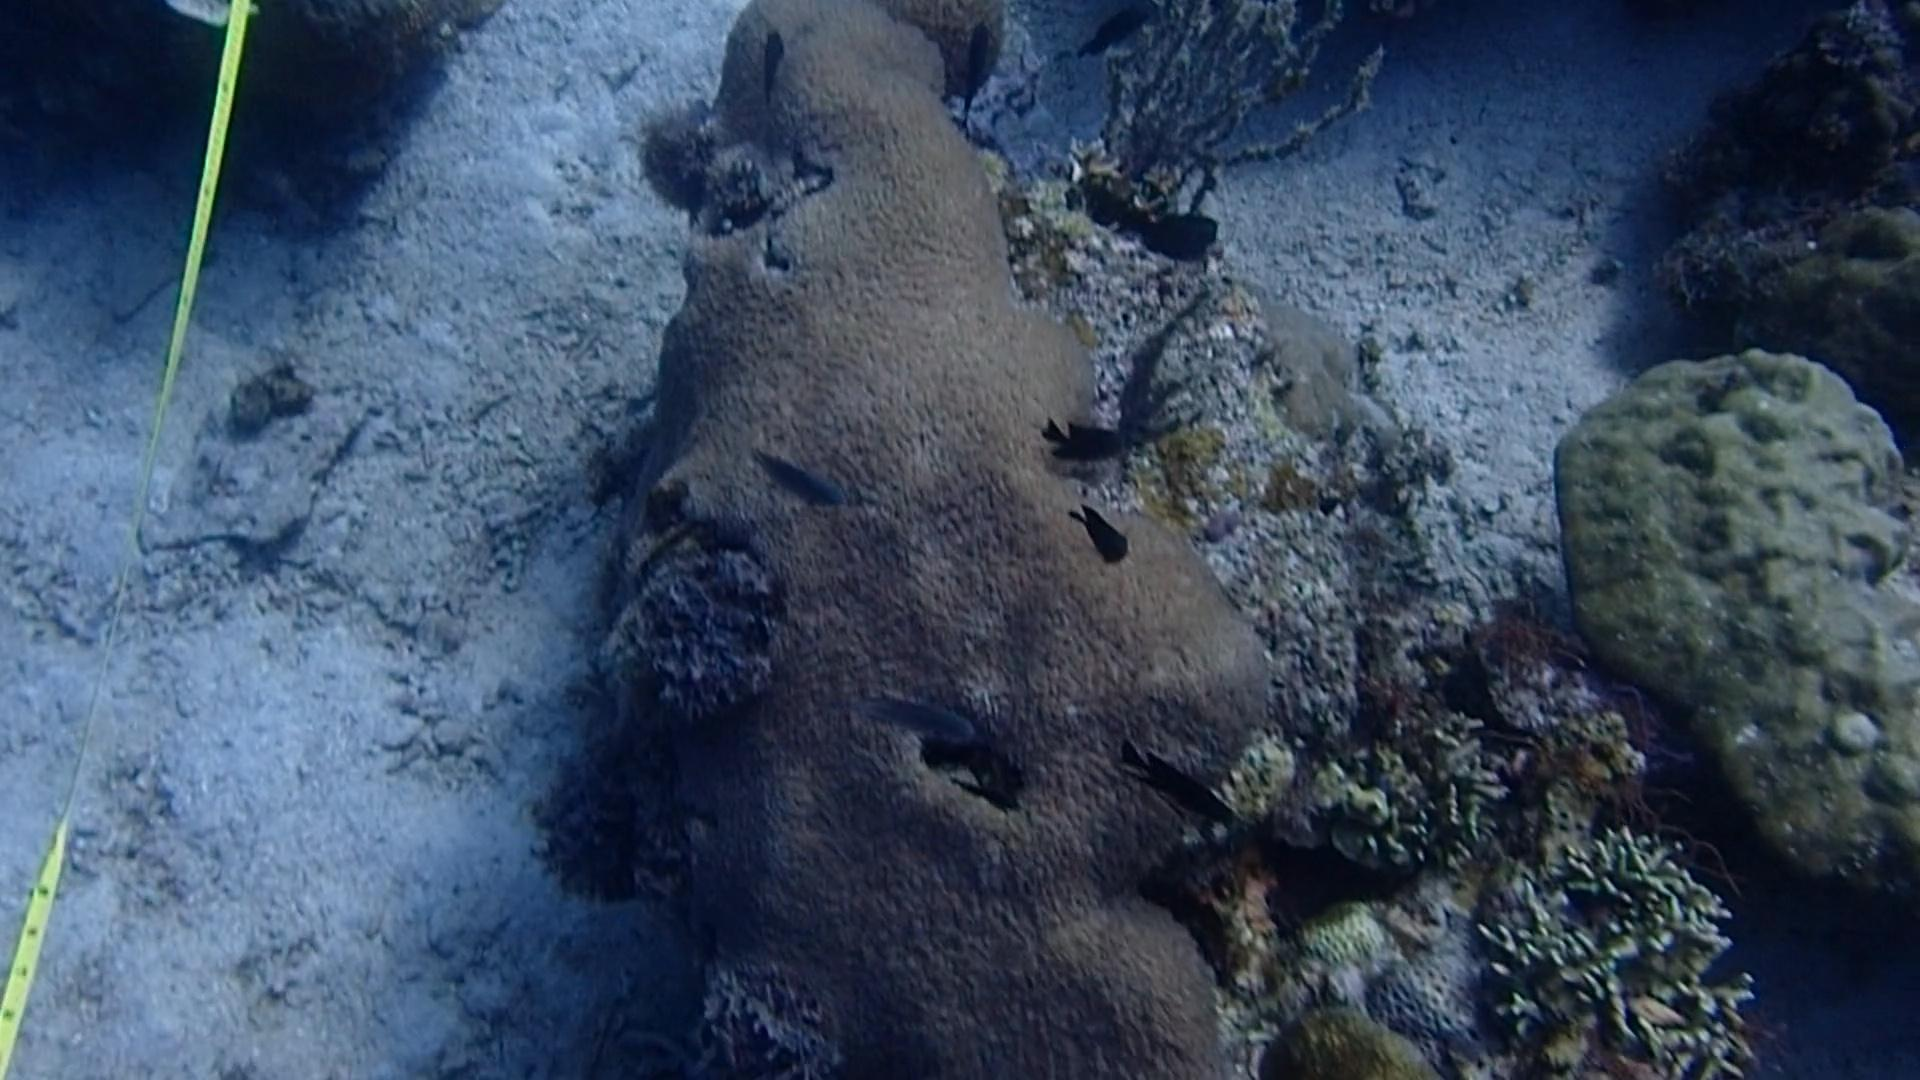Dark Fish: (1114, 733, 1240, 843), (939, 18, 1007, 124), (1040, 413, 1129, 476), (1058, 495, 1141, 562), (1139, 204, 1230, 264), (1075, 3, 1151, 66), (741, 22, 794, 108)
Light Fish: (860, 673, 985, 748), (750, 435, 839, 524)
